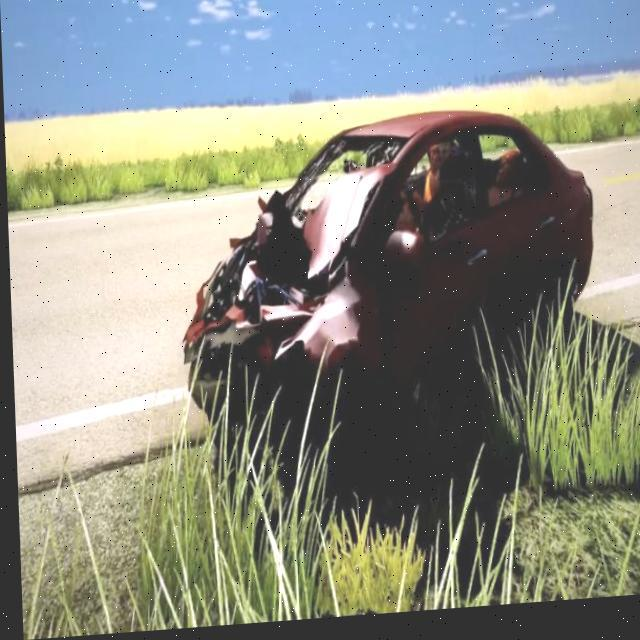single accident: (152, 75, 609, 482)
